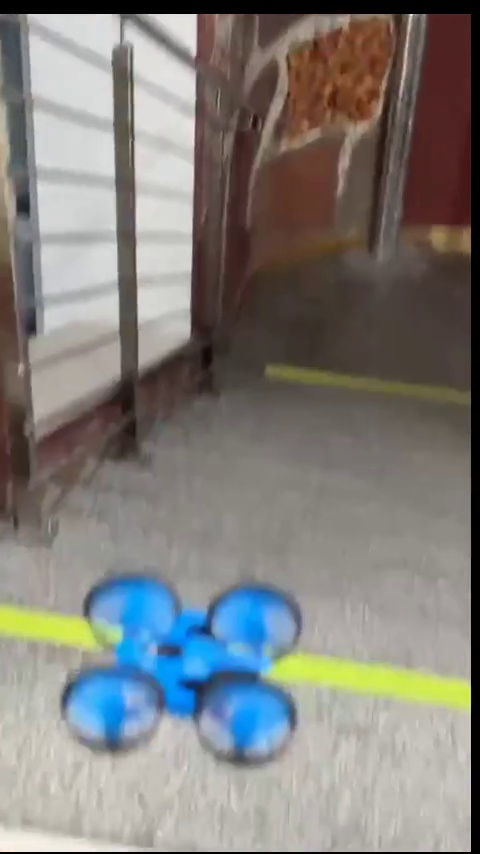drone: (57, 574, 298, 761)
